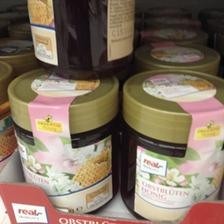Honig: (5, 64, 119, 218), (122, 67, 222, 223)
